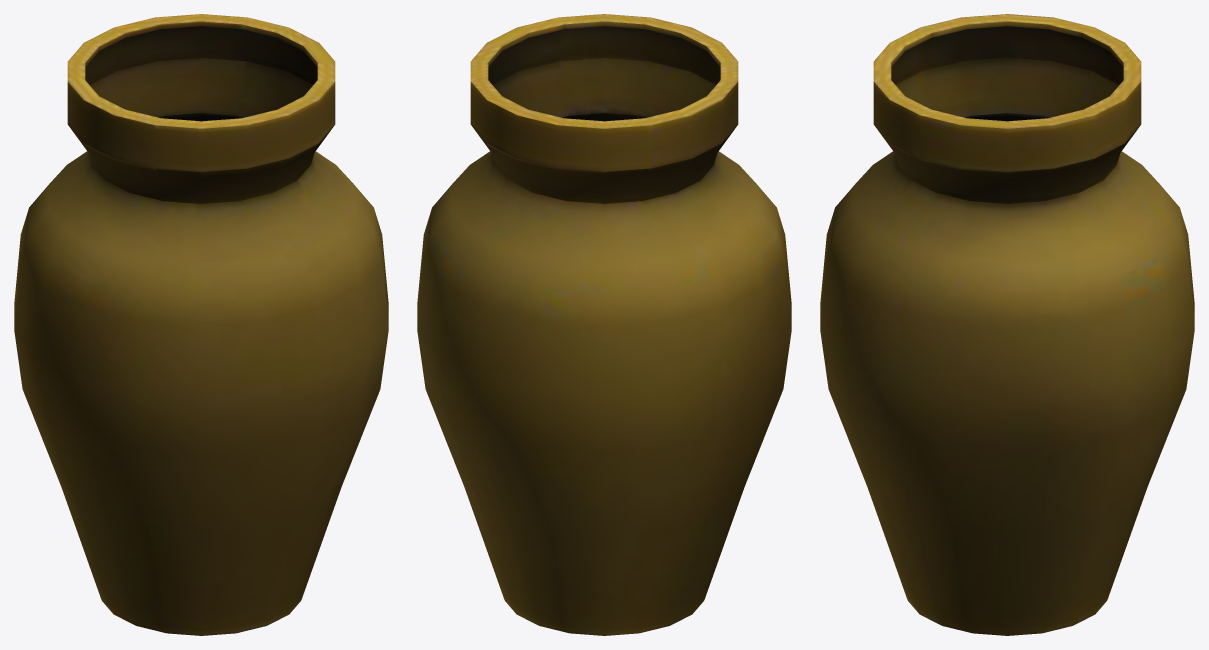
The model's file is vase.gltf.
3 views of the same model, side by side, from view 1: azimuth 30°, elevation 25°; view 2: azimuth 150°, elevation 25°; view 3: azimuth 270°, elevation 25° (orthographic).
Visible parts, largest first — view 1: DECO009; view 2: DECO009; view 3: DECO009.
Part boxes in pixels (x1=…): DECO009: x1=14, y1=14, x2=388, y2=635; DECO009: x1=417, y1=14, x2=791, y2=635; DECO009: x1=820, y1=14, x2=1194, y2=635.
Size of the model in its own units: 0.2174 by 0.3294 by 0.2141.
